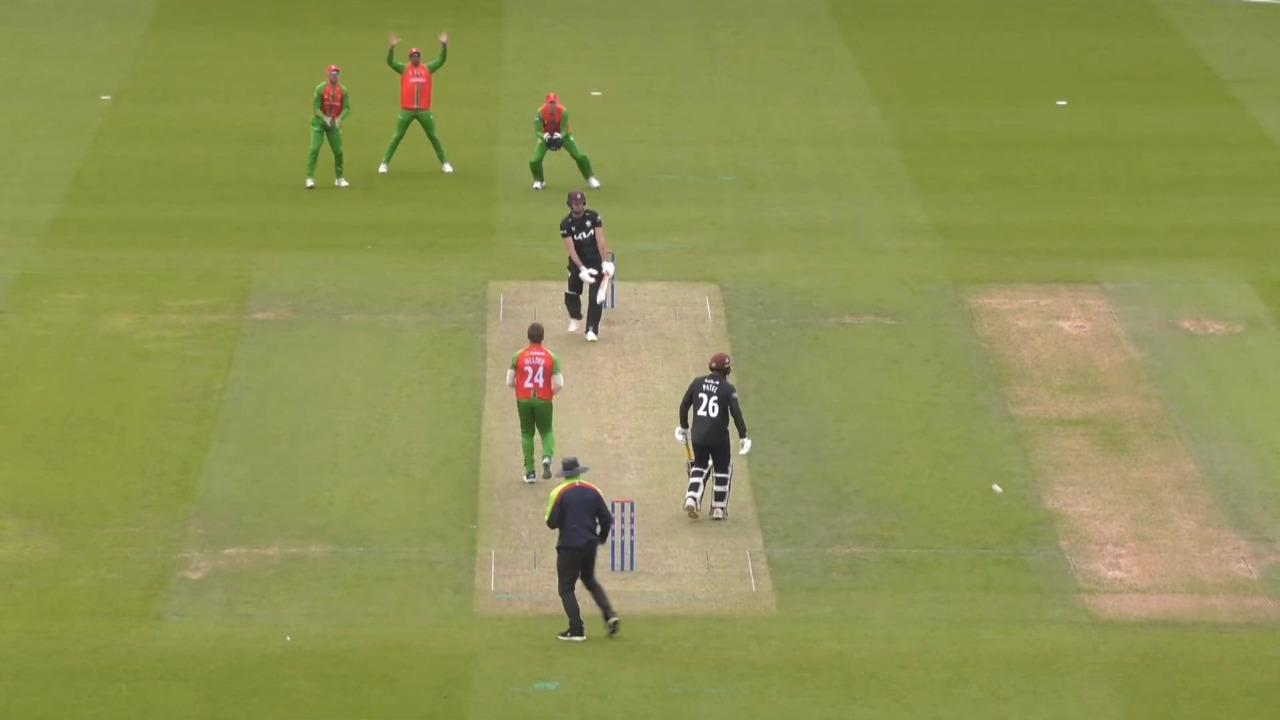sports ball: (992, 483, 1003, 493)
